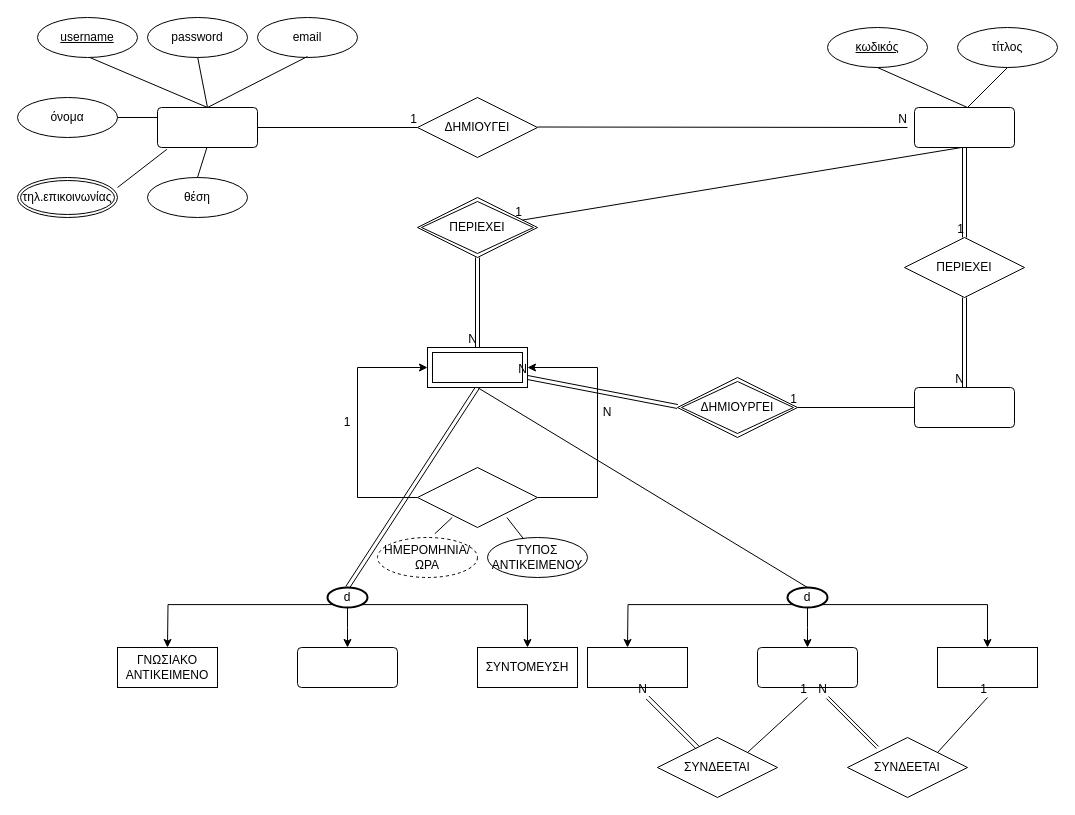
Image size: 1075x815. Some labels were removed from this diagram. Here are the shapes that lost their labels. From the top down, the centre of each, then its label:
point (207, 127): ΧΡΗΣΤΗΣ
point (964, 127): ΧΩΡΟΣ ΕΡΓΑΣΙΑΣ
point (477, 367): ΑΝΤΙΚΕΙΜΕΝΟ
point (964, 407): ΧΡΗΣΤΕΣ
point (477, 497): ΣΧΕΤΙΖΕΤΑΙ
point (347, 667): ΦΑΚΕΛΟΣ
point (637, 667): ΕΠΙΧΕΙΡΗΜΑ
point (807, 667): ΛΥΣΗ
point (987, 667): ΠΡΟΒΛΗΜΑ
